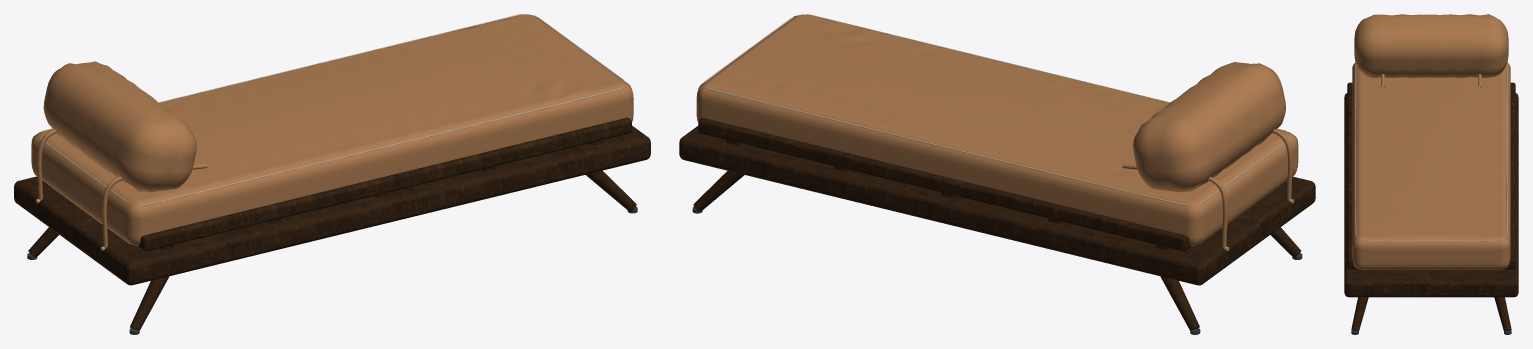
File: lounge-daybed.glb
The picture shows the model from 3 angles, left to right: view 1: azimuth 30°, elevation 25°; view 2: azimuth 150°, elevation 25°; view 3: azimuth 270°, elevation 25°; orthographic projection. The views are drawn at different scales.
Parts seen in each view (by area): view 1: leather_surfaces, walnut_surfaces, welt_surfaces; view 2: leather_surfaces, walnut_surfaces, welt_surfaces; view 3: leather_surfaces, walnut_surfaces, welt_surfaces.
Part boxes in pixels (x1,y1,x2,y2): leather_surfaces: (31, 14, 633, 247); walnut_surfaces: (14, 117, 650, 330); welt_surfaces: (40, 14, 624, 205); leather_surfaces: (696, 14, 1298, 248); walnut_surfaces: (679, 118, 1315, 330); welt_surfaces: (705, 14, 1289, 205); leather_surfaces: (1352, 14, 1510, 269); walnut_surfaces: (1344, 82, 1518, 331); welt_surfaces: (1355, 63, 1507, 241).
Bounding box in the file's own units: 2.06 × 0.7384 × 0.7901.
Materials: 5 (1 with a texture image).
